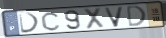9: (63, 9, 82, 30)
C: (40, 11, 62, 32)
D: (17, 12, 41, 34), (126, 4, 147, 28)
V: (103, 6, 126, 29)
X: (83, 7, 106, 31)
